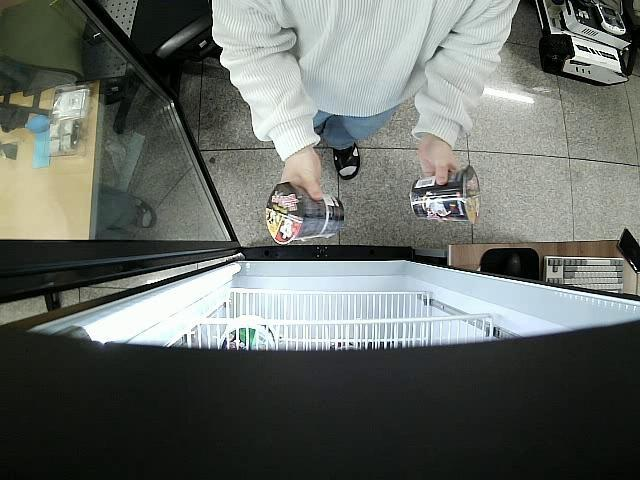08_buldak_S: (264, 180, 346, 246), (411, 163, 480, 226)
